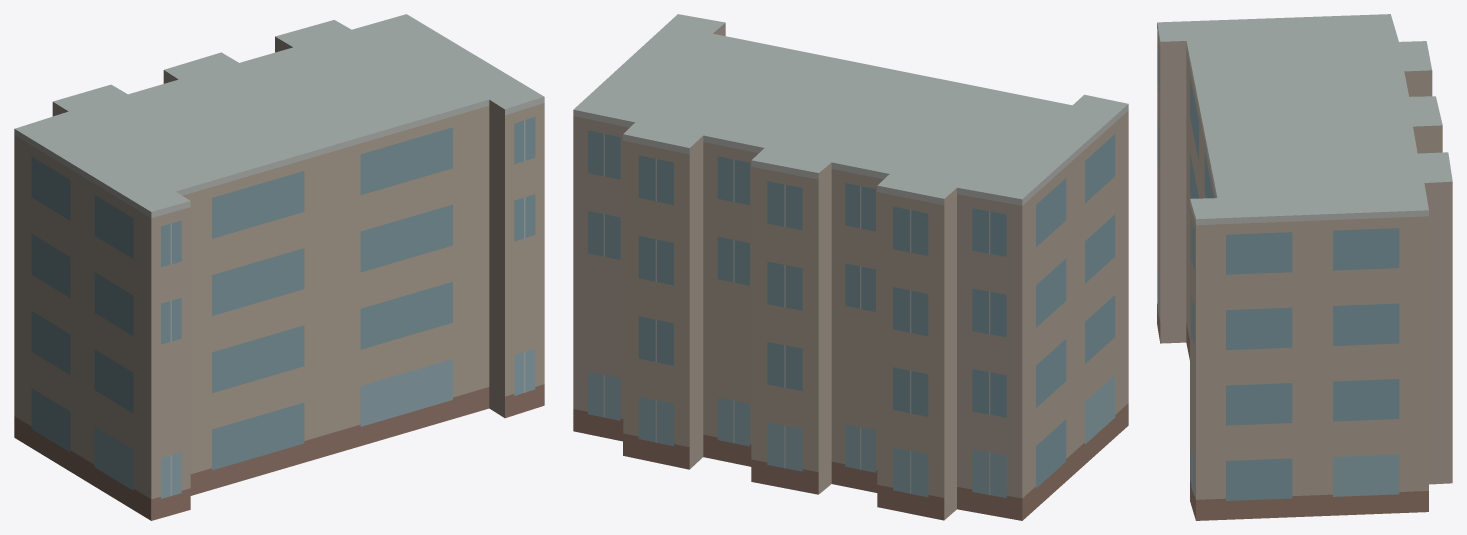
The model's file is survey-upis-32755793.glb.
The picture shows the model from 3 angles, left to right: view 1: azimuth 30°, elevation 25°; view 2: azimuth 150°, elevation 25°; view 3: azimuth 270°, elevation 25°; orthographic projection. The views are drawn at different scales.
Parts seen in each view (by area): view 1: survey-upis-32755793.tmp; view 2: survey-upis-32755793.tmp; view 3: survey-upis-32755793.tmp.
Boxes of the visible parts, x1=… form: survey-upis-32755793.tmp: x1=14, y1=14, x2=544, y2=520; survey-upis-32755793.tmp: x1=573, y1=14, x2=1128, y2=520; survey-upis-32755793.tmp: x1=1157, y1=14, x2=1452, y2=520.
Size of the model in its own units: 17.81 by 12.2 by 10.84.
